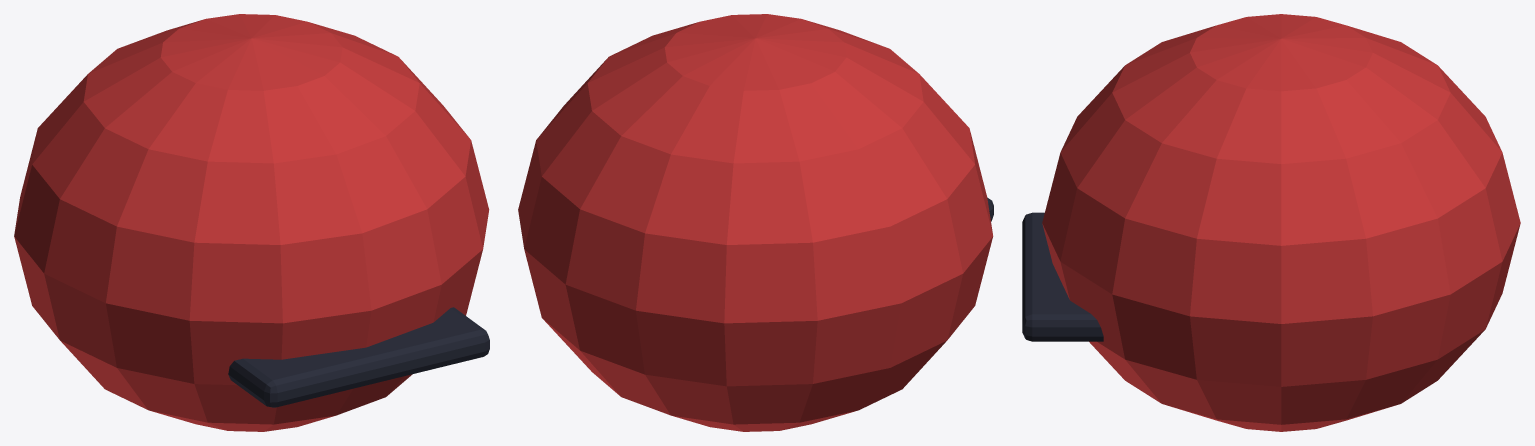
Rendered from helmet.glb.
3 renders of one model, left to right at view 1: azimuth 30°, elevation 25°; view 2: azimuth 150°, elevation 25°; view 3: azimuth 270°, elevation 25°, orthographic.
Visible parts, largest first — view 1: helmet, helmet-peak; view 2: helmet; view 3: helmet, helmet-peak.
Boxes of the visible parts, left/top/right/bottom form: helmet: left=14, top=14, right=489, bottom=431; helmet-peak: left=228, top=307, right=489, bottom=407; helmet: left=518, top=14, right=993, bottom=431; helmet: left=1042, top=14, right=1520, bottom=431; helmet-peak: left=1022, top=212, right=1103, bottom=341.
Size of the model in its own units: 0.48 by 0.408 by 0.5.
